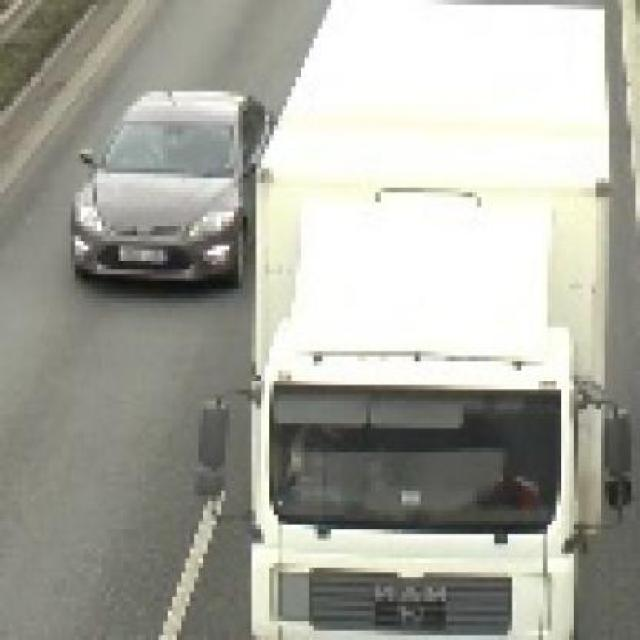truck: (194, 1, 605, 636)
